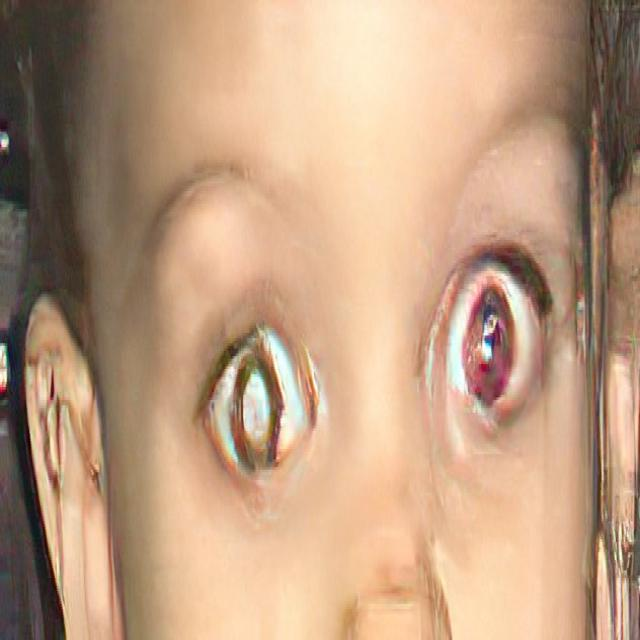reflexo-alterado: (434, 213, 546, 442), (216, 279, 313, 507)
